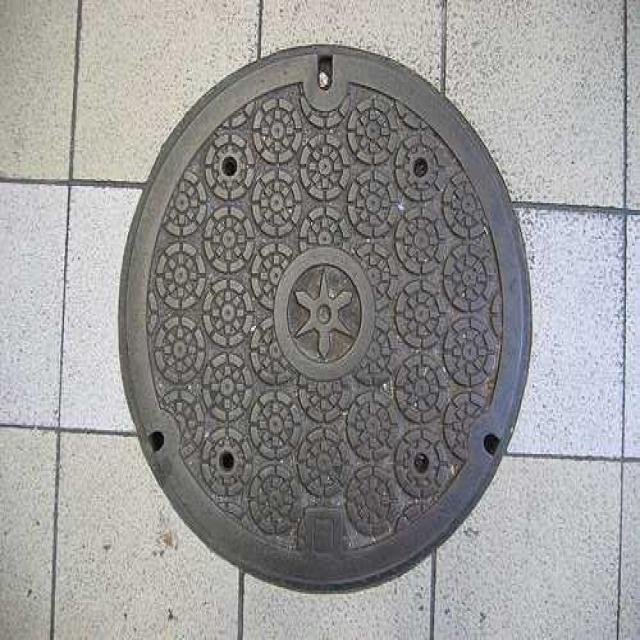manhole: (120, 47, 527, 590)
